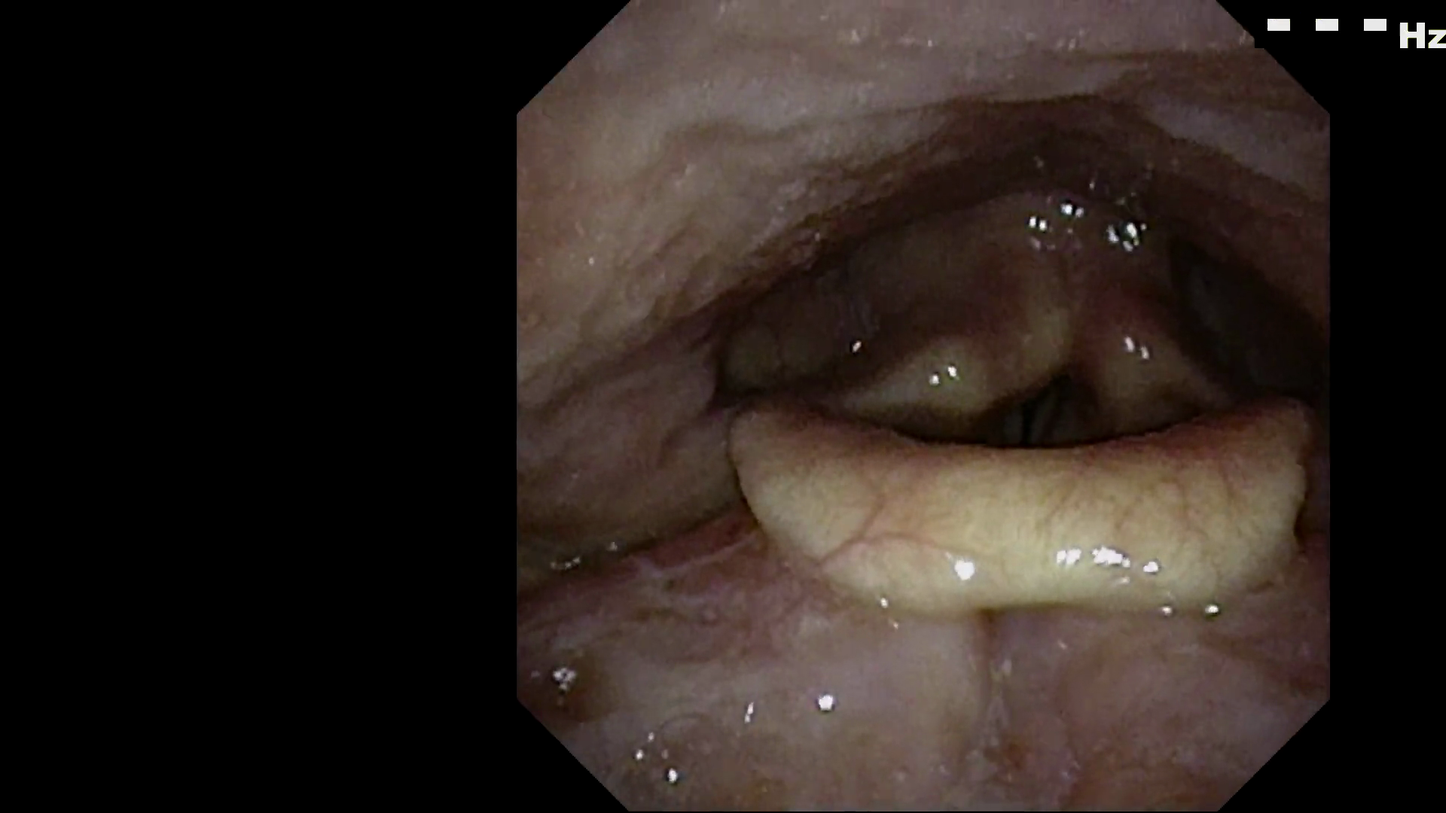epiglottis: (708, 371, 1320, 630)
trachea: (989, 342, 1100, 474)
